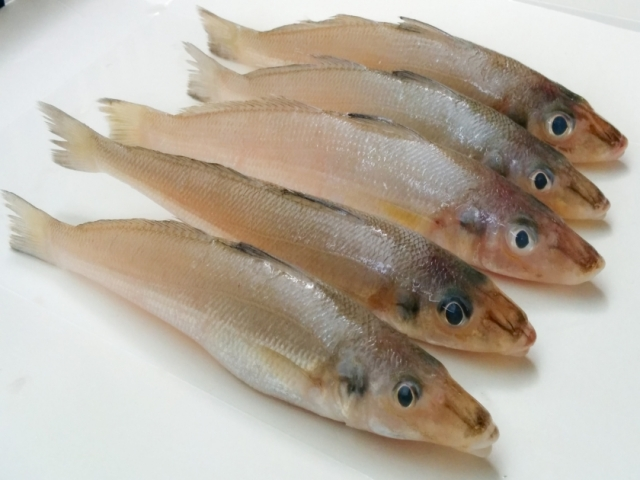kiss: (16, 9, 634, 475)
